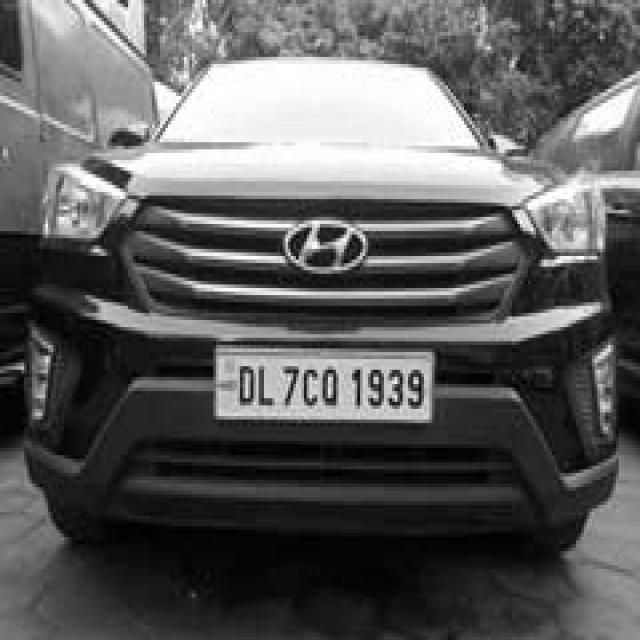License_Plate: (213, 352, 436, 422)
